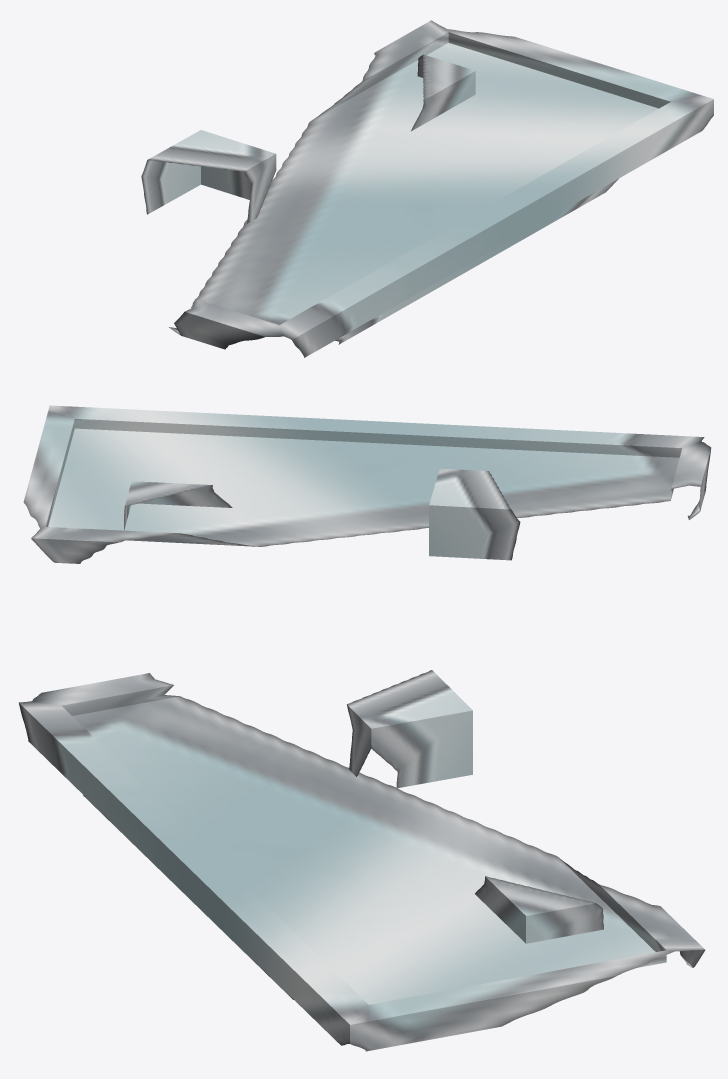
Rendered from G_HuShiZhan_jingzi_01.FBX.
3 views of the same model, one above another, from view 1: azimuth 30°, elevation 25°; view 2: azimuth 150°, elevation 25°; view 3: azimuth 270°, elevation 25° (orthographic). The views are drawn at different scales.
Visible parts, largest first — view 1: HuShiZhan_jingzi_01; view 2: HuShiZhan_jingzi_01; view 3: HuShiZhan_jingzi_01.
Part boxes in pixels (left/top/right/bottom): HuShiZhan_jingzi_01: left=141, top=20, right=713, bottom=357; HuShiZhan_jingzi_01: left=23, top=405, right=711, bottom=563; HuShiZhan_jingzi_01: left=18, top=670, right=705, bottom=1051.
Size of the model in its own units: 165 by 19.85 by 124.
